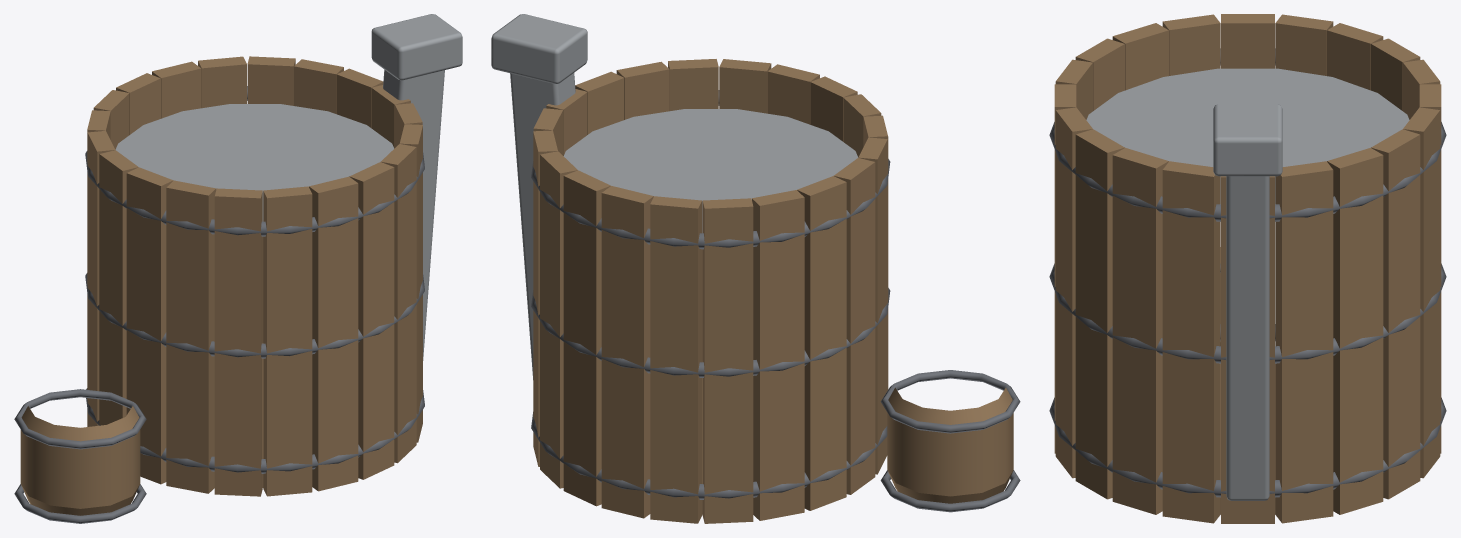
File: rain-water-butt.glb
The picture shows the model from 3 angles, left to right: view 1: azimuth 30°, elevation 25°; view 2: azimuth 150°, elevation 25°; view 3: azimuth 270°, elevation 25°; orthographic projection. The views are drawn at different scales.
Parts seen in each view (by area): view 1: rain-water-butt; view 2: rain-water-butt; view 3: rain-water-butt.
Part boxes in pixels (x1=…): rain-water-butt: x1=14, y1=14, x2=462, y2=523; rain-water-butt: x1=491, y1=14, x2=1020, y2=523; rain-water-butt: x1=1049, y1=14, x2=1446, y2=523.
Bounding box in the file's own units: 1.4 × 1.07 × 0.914.
